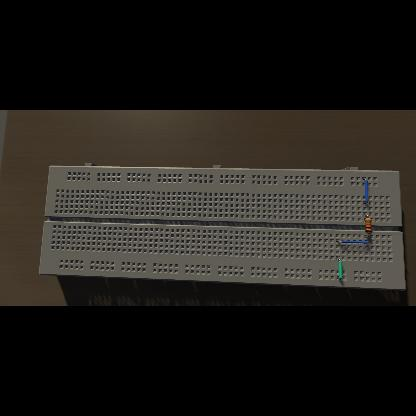breadboard: (38, 163, 406, 291)
resistor: (364, 218, 372, 234)
wire: (337, 240, 369, 244), (364, 178, 368, 204), (338, 258, 342, 280), (364, 214, 368, 218), (365, 234, 369, 238)
